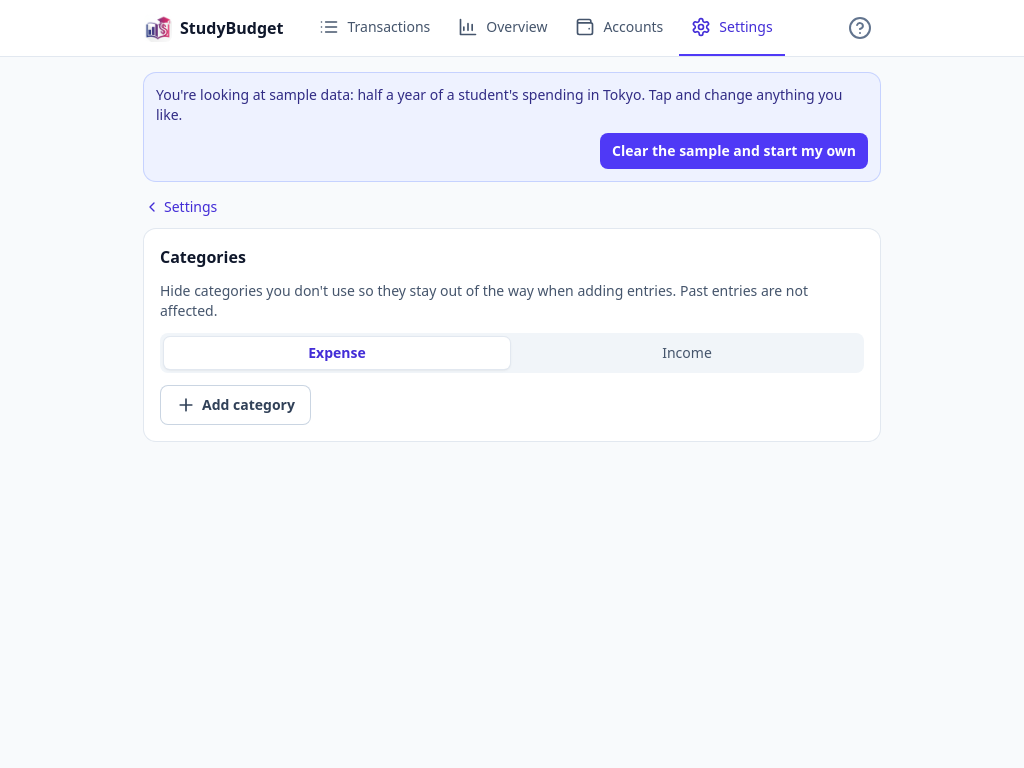
Test: category settings › rejects a duplicate name
The image size is (1024, 768).
Click the button "Add category": x=235, y=405 [160,385,311,425]
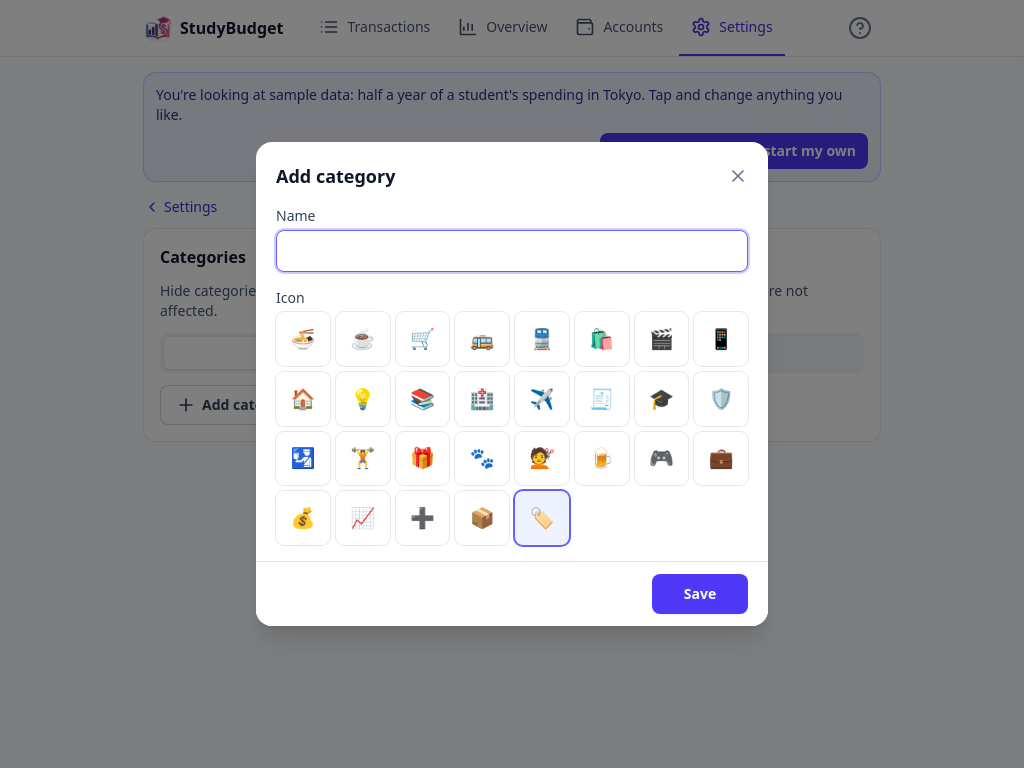
In the field labelled "Name": x=512, y=251 [276,230,748,272], type "Rent"
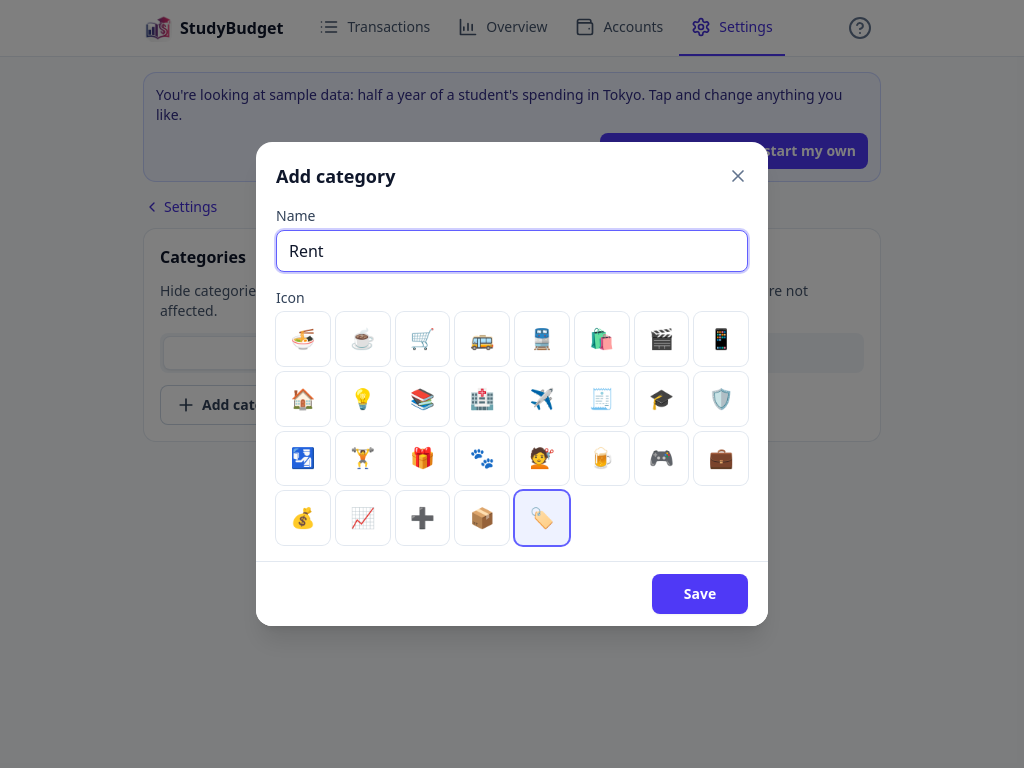
Click the button "Save": x=700, y=594 [652,574,748,614]
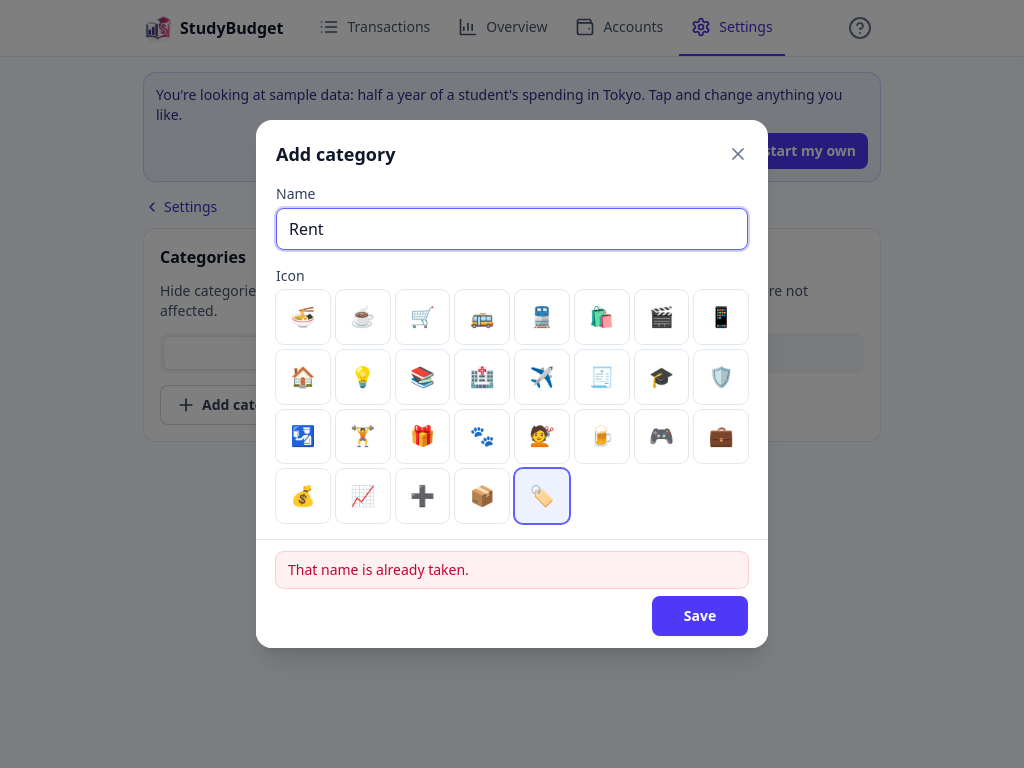
Expected: the message reads "That name is already taken.", [288,560,469,579]
